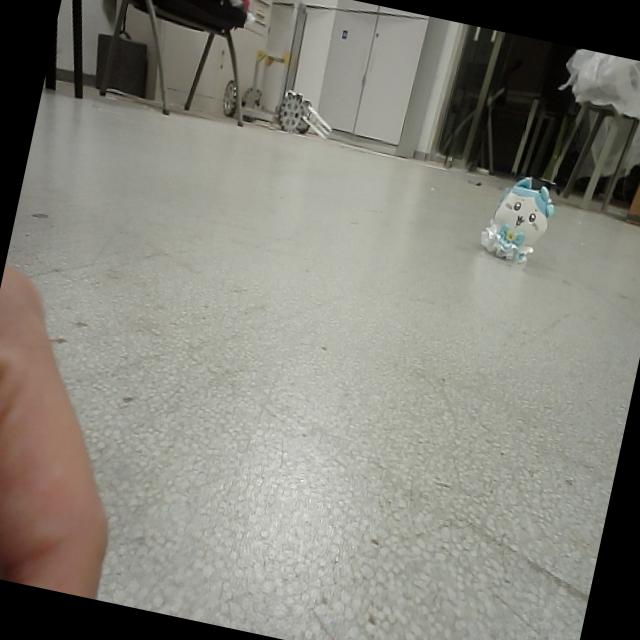xiaoba: (482, 170, 560, 272)
